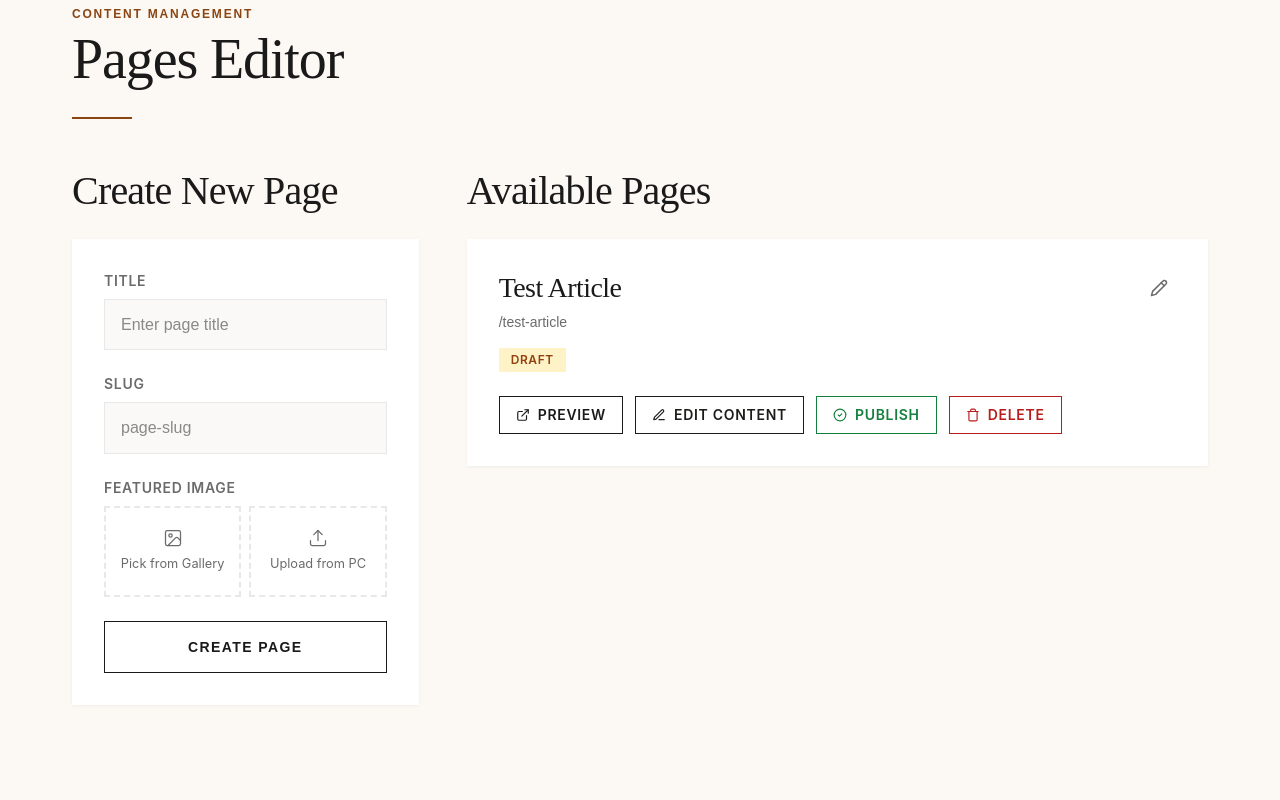
Test case: ArticleEditor Component › Toggle Publish › should handle toggle publish error
Click the button "Publish" at coordinates (876, 415), box x1=816 y1=396 x2=937 y2=434
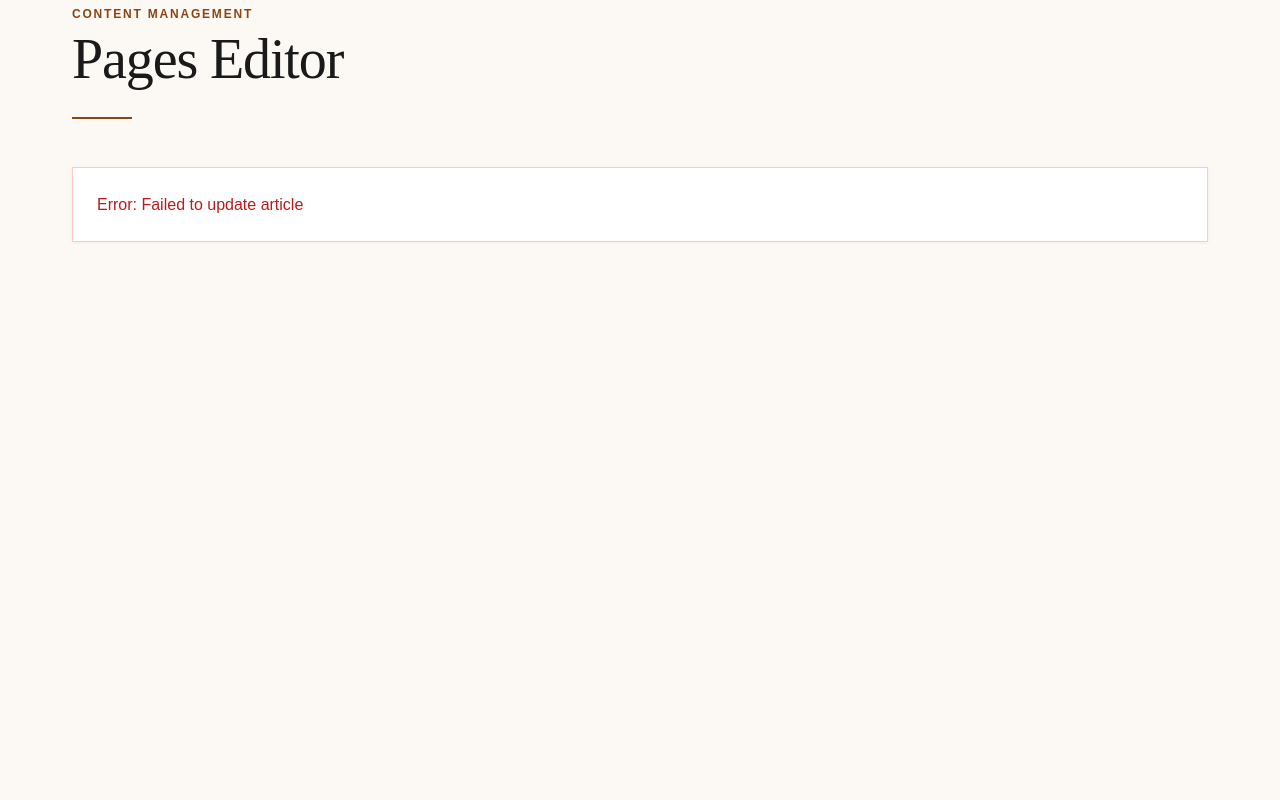
Expected: the text "Error: Failed to update article" is shown, x1=97 y1=196 x2=303 y2=213
